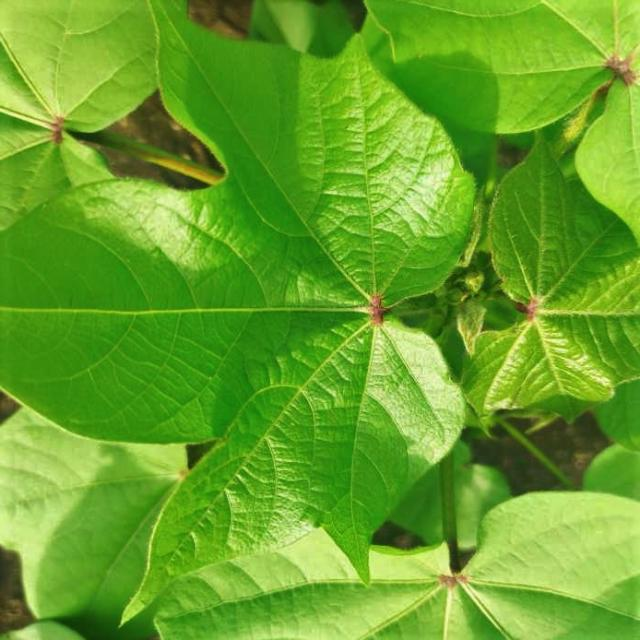Healthy Leaf: (11, 8, 612, 640)
